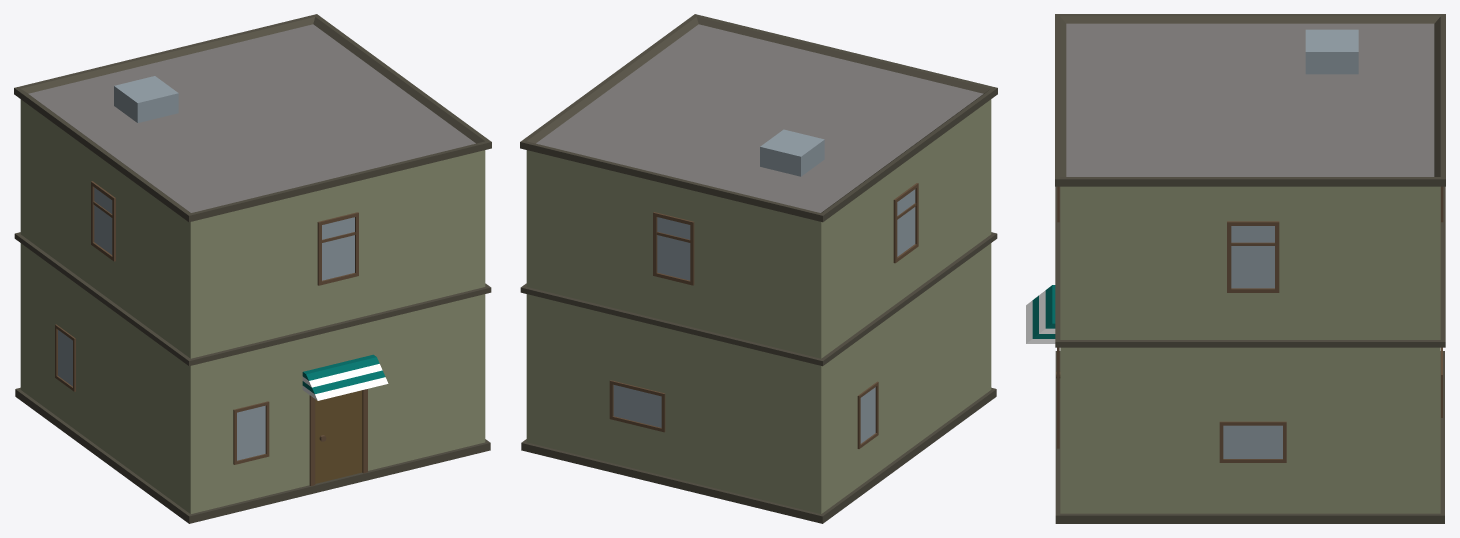
The model's file is BuildingGroundFloorCeiling.fbx.
The picture shows the model from 3 angles, left to right: view 1: azimuth 30°, elevation 25°; view 2: azimuth 150°, elevation 25°; view 3: azimuth 270°, elevation 25°; orthographic projection. The views are drawn at different scales.
Visible parts, largest first — view 1: Building; view 2: Building; view 3: Building.
Part boxes in pixels (x1,y1,x2,y2): Building: [14, 14, 491, 523]; Building: [520, 14, 997, 523]; Building: [1026, 14, 1445, 523].
Bounding box in the file's own units: 822 × 841 × 883.
